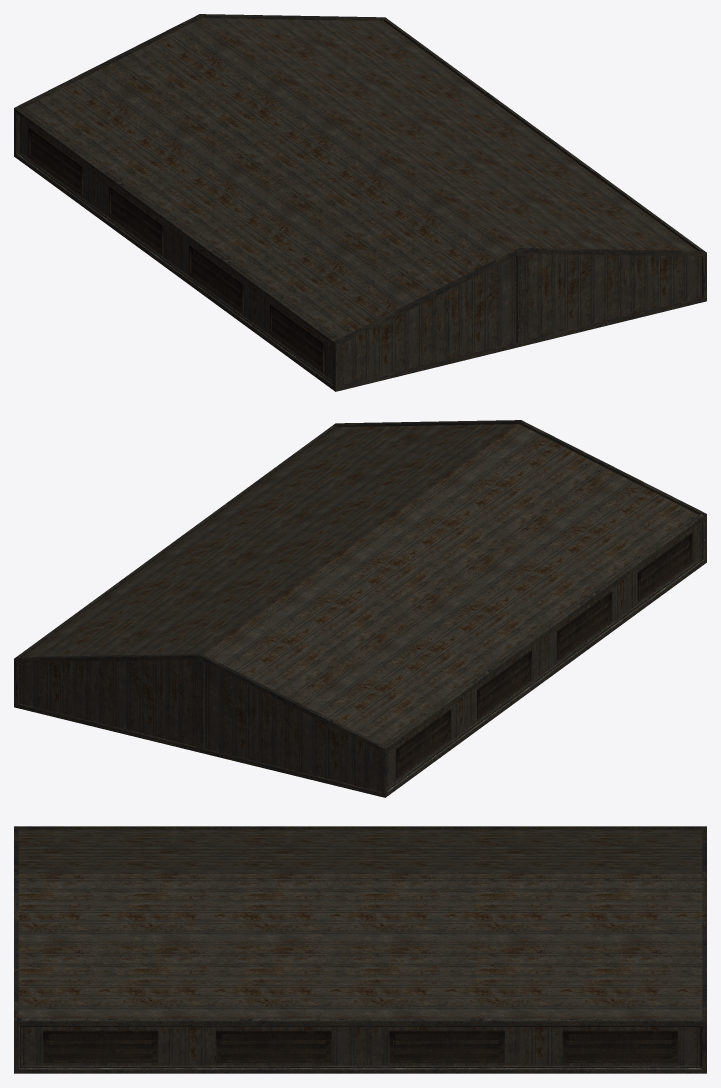
The model's file is roof_mh_4_b_3.dae.
3 renders of one model, top to bottom at view 1: azimuth 30°, elevation 25°; view 2: azimuth 150°, elevation 25°; view 3: azimuth 270°, elevation 25°, orthographic. The views are drawn at different scales.
Visible parts, largest first — view 1: roof_mh_4_b_3; view 2: roof_mh_4_b_3; view 3: roof_mh_4_b_3.
Part boxes in pixels (x1,y1,x2,y2): roof_mh_4_b_3: (14,14,706,391); roof_mh_4_b_3: (14,420,706,797); roof_mh_4_b_3: (14,826,706,1073).
Size of the model in its own units: 8 by 12 by 2.
Materials: 6 (6 with a texture image).
